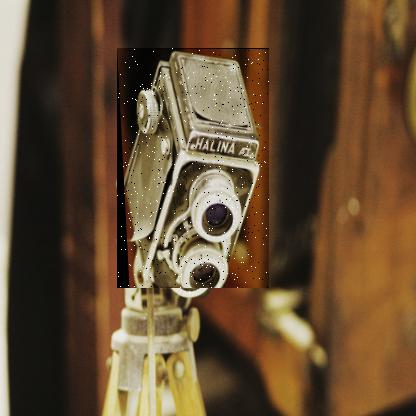Camera: (118, 49, 271, 290)
